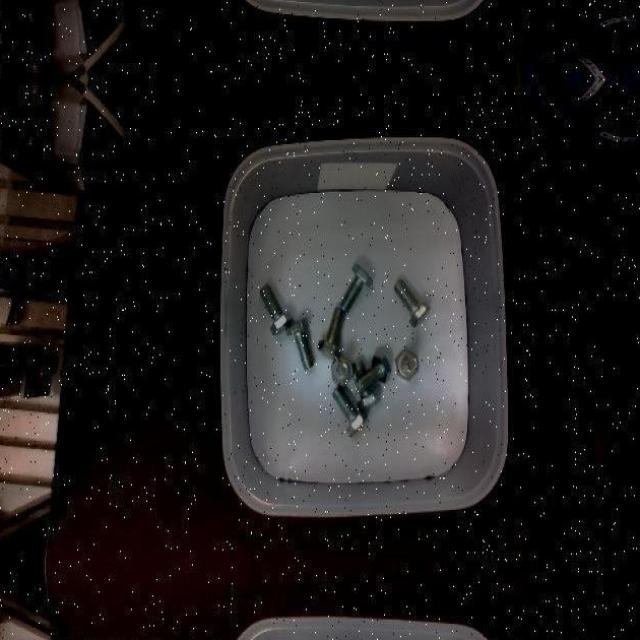screw: (331, 384, 368, 437), (395, 278, 431, 327), (260, 284, 293, 336), (339, 261, 372, 311), (285, 316, 315, 367), (317, 304, 345, 358), (354, 352, 391, 392), (396, 346, 420, 381)
